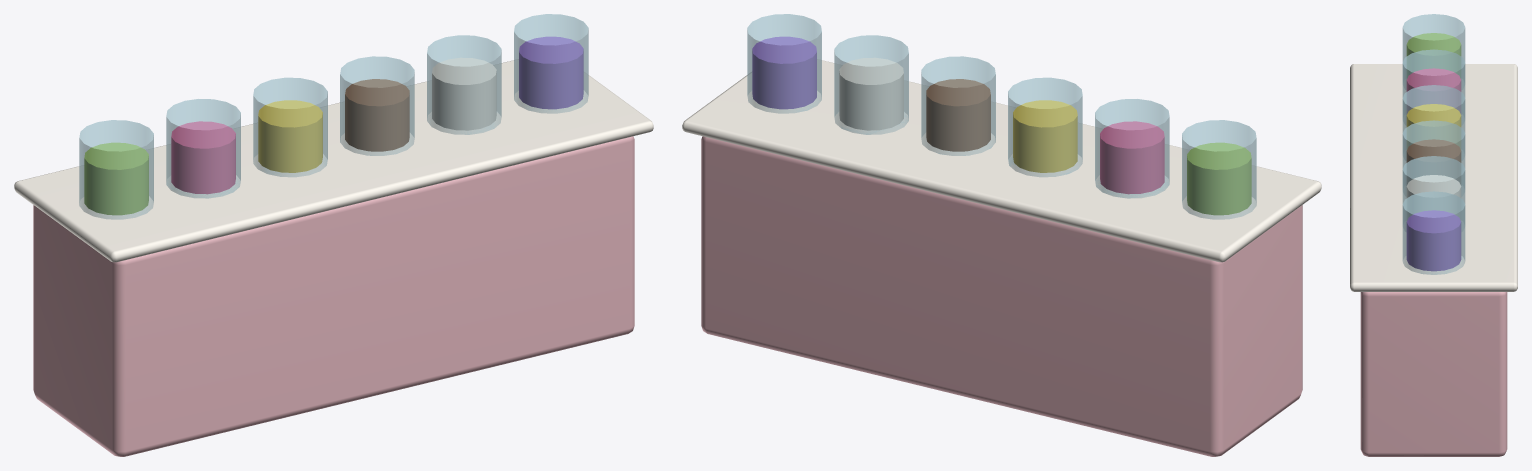
Rendered from jar_counter.glb.
3 views of the same model, side by side, from view 1: azimuth 30°, elevation 25°; view 2: azimuth 150°, elevation 25°; view 3: azimuth 270°, elevation 25° (orthographic). The views are drawn at different scales.
Parts seen in each view (by area): view 1: Body, Top, Jar.002, Jar.004, Jar.005, Jar, Jar.003, Jar.001, Che.004, Che.001, Che.005, Che (+2 smaller); view 2: Body, Top, Jar.002, Jar.004, Jar, Jar.001, Jar.003, Jar.005, Che.004, Che.001, Che.005, Che (+2 smaller); view 3: Top, Body, Jar.005, Che.005, Jar.002, Jar.001, Jar.004, Jar, Jar.003, Che.001, Che.002, Che.003 (+2 smaller).
Boxes of the visible parts, x1,y1,x2,y2 form: Body: (33,136,634,456); Top: (14,59,653,262); Jar.002: (253,77,327,177); Jar.004: (427,35,501,134); Jar.005: (514,14,588,113); Jar: (79,120,153,219); Jar.003: (340,56,414,155); Jar.001: (166,99,240,198); Che.004: (432,57,496,130); Che.001: (171,121,235,194); Che.005: (519,36,583,109); Che: (84,142,148,215); Body: (701,136,1302,456); Top: (682,59,1321,262); Jar.002: (1008,77,1082,177); Jar.004: (834,35,908,134); Jar: (1182,120,1256,219); Jar.001: (1095,99,1169,198); Jar.003: (921,56,995,155); Jar.005: (747,14,821,113); Che.004: (839,57,903,130); Che.001: (1100,121,1164,194); Che.005: (752,36,816,109); Che: (1187,142,1251,215); Top: (1350,64,1517,291); Body: (1360,292,1507,456); Jar.005: (1402,191,1465,274); Che.005: (1406,210,1461,271); Jar.002: (1402,85,1465,159); Jar.001: (1402,49,1465,124); Jar.004: (1402,156,1465,230); Jar: (1402,14,1465,85); Jar.003: (1402,120,1465,189); Che.001: (1406,68,1461,112); Che.002: (1406,104,1461,147); Che.003: (1406,139,1461,183).
Size of the model in its own units: 2.5 by 1.25 by 0.8.
